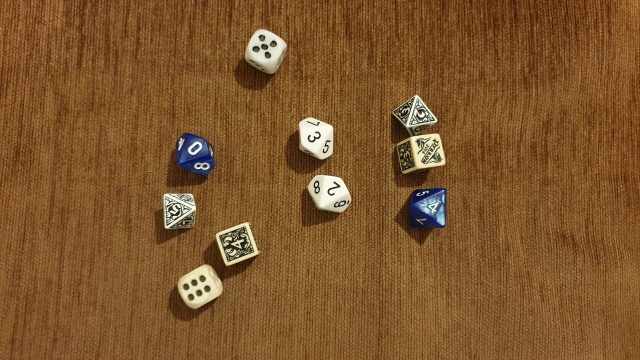d10-10: (163, 129, 223, 179)
d10-2: (303, 172, 357, 218)
d10-3: (293, 111, 338, 163)
d10-4: (404, 183, 453, 236)
d6-5: (240, 22, 289, 78)
d6-6: (172, 262, 226, 314)
d6p-1: (394, 131, 449, 175)
d6p-4: (213, 218, 264, 272)
d8p-2: (391, 92, 441, 136)
d8p-5: (150, 183, 201, 238)
